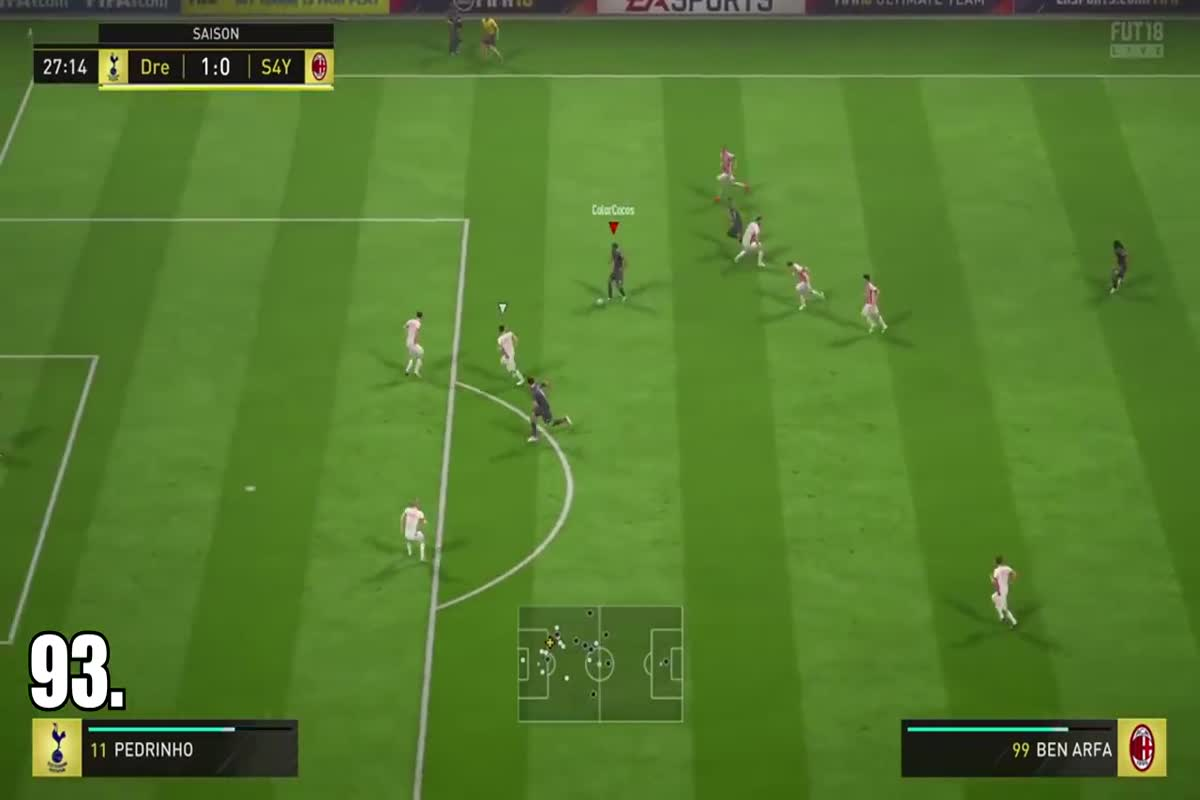ball: (588, 291, 611, 313)
